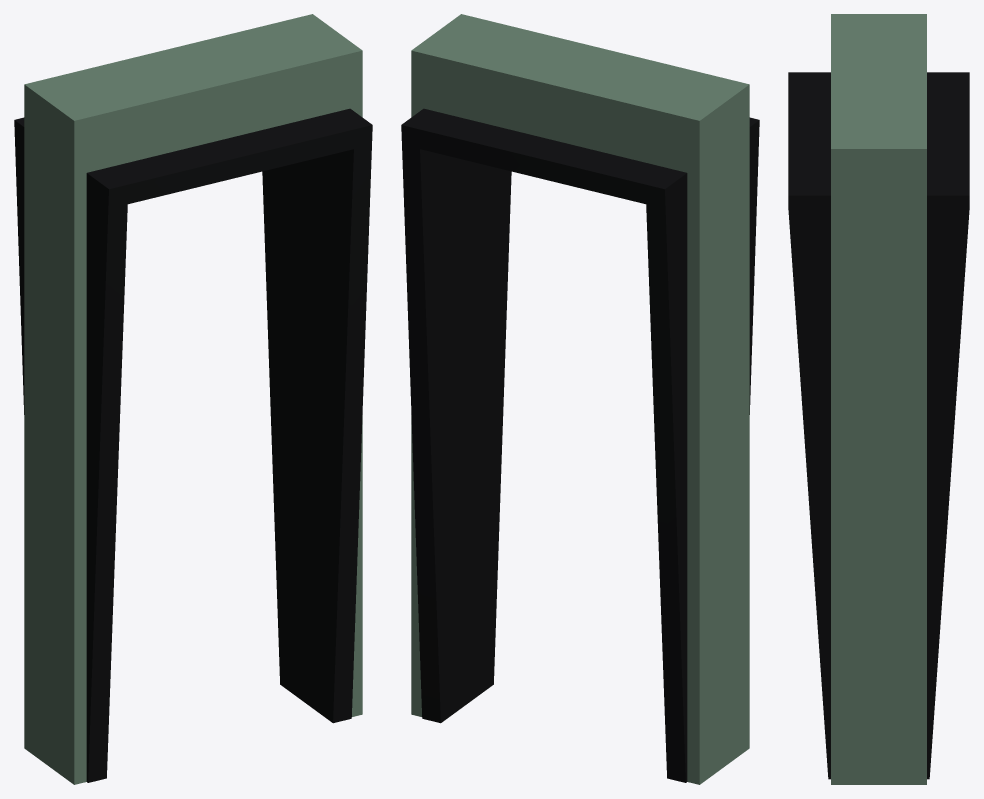
File: W2_DoorSquare_1m_Wall.fbx
3 views of the same model, side by side, from view 1: azimuth 30°, elevation 25°; view 2: azimuth 150°, elevation 25°; view 3: azimuth 270°, elevation 25° (orthographic). The views are drawn at different scales.
Visible parts, largest first — view 1: W2_DoorSquare_1m_Wall.001; view 2: W2_DoorSquare_1m_Wall.001; view 3: W2_DoorSquare_1m_Wall.001.
Boxes of the visible parts, <box> form: W2_DoorSquare_1m_Wall.001: <box>14,14,372,784</box>; W2_DoorSquare_1m_Wall.001: <box>401,14,759,784</box>; W2_DoorSquare_1m_Wall.001: <box>788,14,969,784</box>.
Bounding box in the file's own units: 1 × 2.2 × 0.5693.
